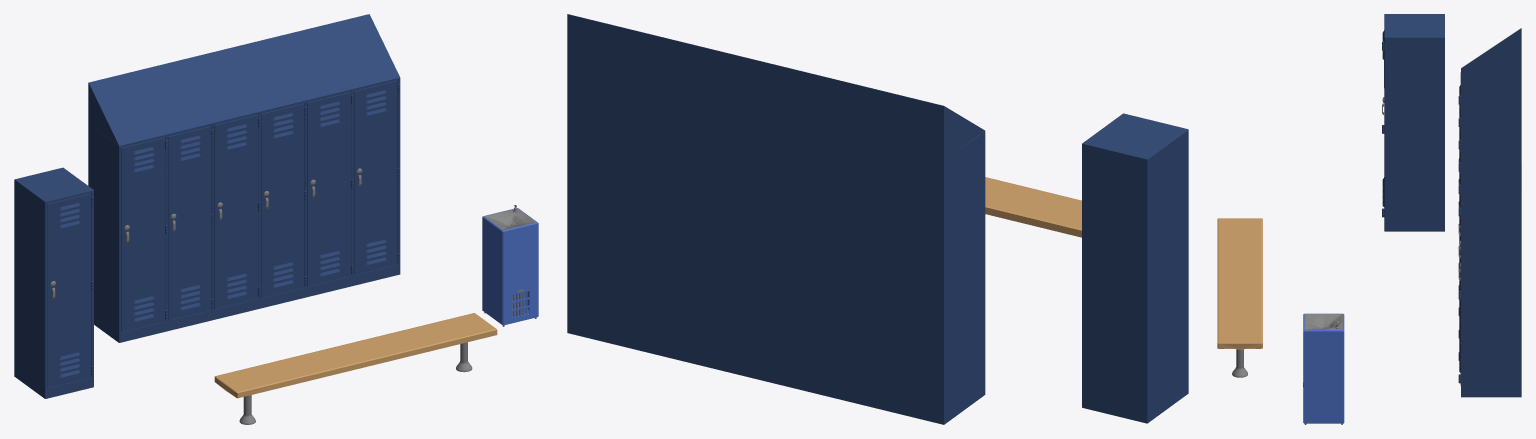
Rendered from Locker room pack.dae.
3 views of the same model, side by side, from view 1: azimuth 30°, elevation 25°; view 2: azimuth 150°, elevation 25°; view 3: azimuth 270°, elevation 25° (orthographic). The views are drawn at different scales.
Parts seen in each view (by area): view 1: Tall_Locker_wall, Tall_Locker, Tall_Locker_wall_D5, Tall_Locker_door, Tall_Locker_wall_D1, Tall_Locker_wall_D3, Tall_Locker_wall_D2, Tall_Locker_wall_D6, Tall_Locker_wall_D4, Bench, Drinking_fountain; view 2: Tall_Locker_wall, Tall_Locker, Bench; view 3: Tall_Locker_wall, Tall_Locker, Bench, Drinking_fountain.
Boxes of the visible parts, left/top/right/bottom form: Tall_Locker_wall: left=88, top=14, right=400, bottom=342; Tall_Locker: left=14, top=167, right=93, bottom=398; Tall_Locker_wall_D5: left=307, top=92, right=353, bottom=286; Tall_Locker_door: left=47, top=193, right=93, bottom=387; Tall_Locker_wall_D1: left=121, top=137, right=167, bottom=331; Tall_Locker_wall_D3: left=214, top=114, right=260, bottom=309; Tall_Locker_wall_D2: left=168, top=126, right=213, bottom=320; Tall_Locker_wall_D6: left=354, top=80, right=399, bottom=275; Tall_Locker_wall_D4: left=261, top=103, right=306, bottom=297; Bench: left=214, top=313, right=497, bottom=424; Drinking_fountain: left=482, top=205, right=538, bottom=326; Tall_Locker_wall: left=567, top=14, right=985, bottom=424; Tall_Locker: left=1082, top=113, right=1188, bottom=423; Bench: left=985, top=177, right=1081, bottom=237; Tall_Locker_wall: left=1458, top=28, right=1521, bottom=397; Tall_Locker: left=1382, top=14, right=1444, bottom=231; Bench: left=1217, top=218, right=1262, bottom=377; Drinking_fountain: left=1303, top=313, right=1344, bottom=424.
Size of the model in its own units: 13.77 by 8.14 by 6.93.
